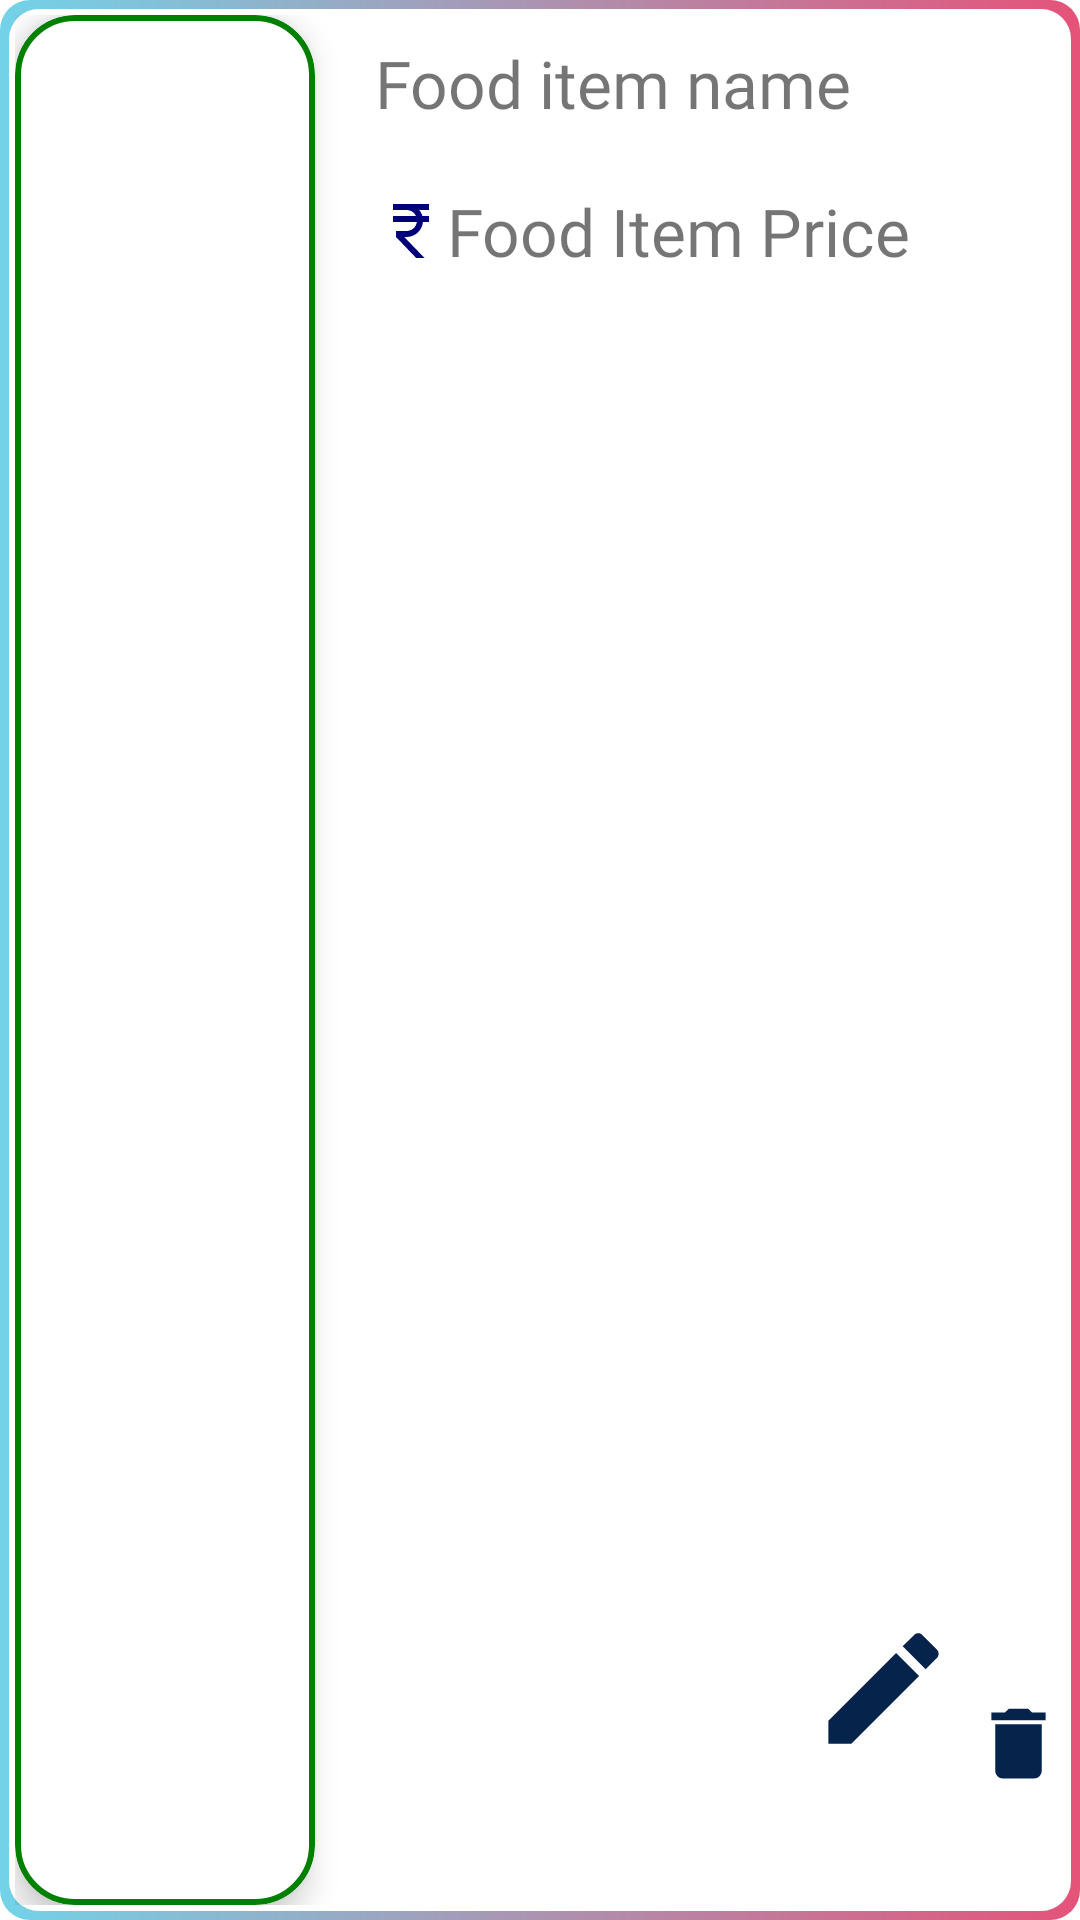

Icon bounding boxes for this 1080x1920 phone screenshot, format (x1, y1, x2, y2):
delete: (991, 1708, 1046, 1779)
edit: (828, 1633, 939, 1744)
